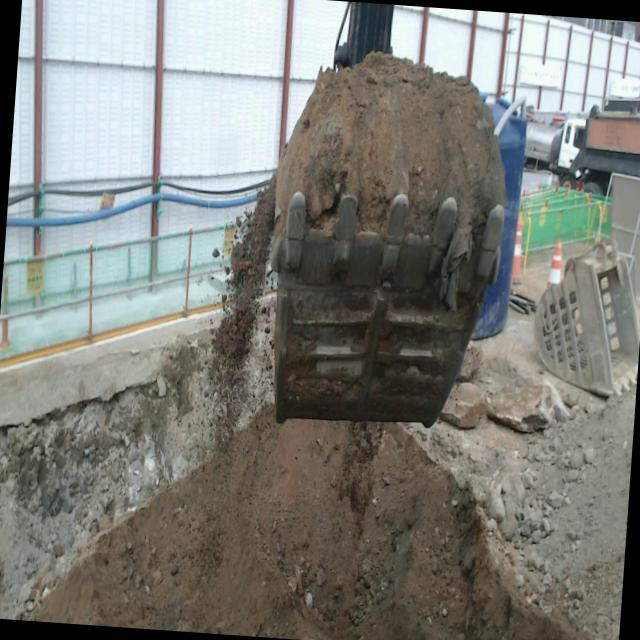red-sand: (274, 53, 504, 250)
stone: (487, 381, 565, 432), (440, 382, 487, 429)
white-sand: (0, 382, 636, 640)
